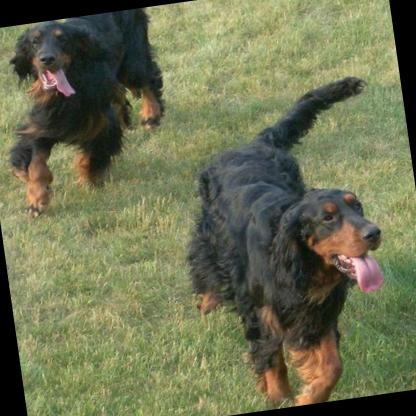Gordon_setter: (162, 72, 407, 416), (0, 5, 183, 219)
